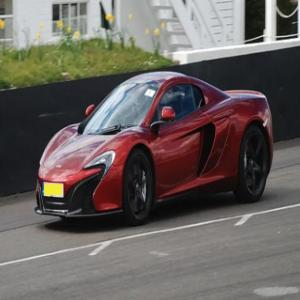Plate: (42, 183, 63, 197)
